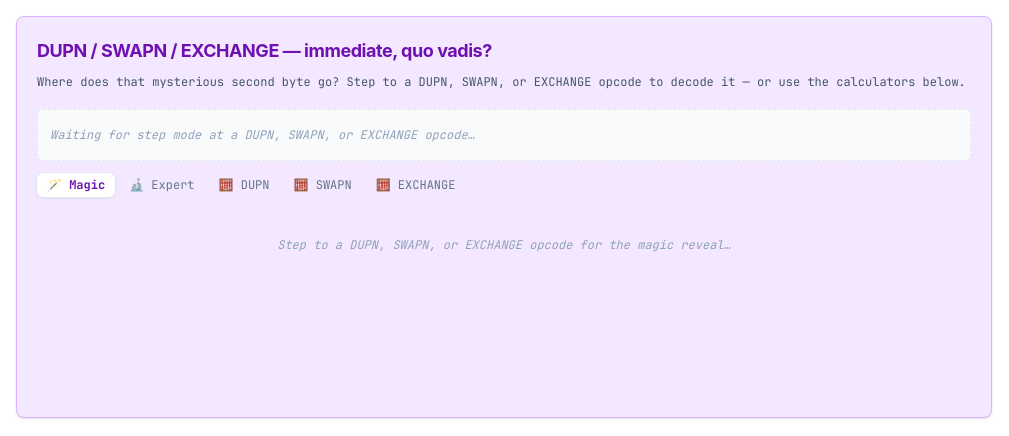
Test case: ImmediateQuoVadis › EXCHANGE calculator shows validation errors for invalid depths
The image size is (1009, 436).
Click the tab "🧮 EXCHANGE".
click(416, 184)  # box [366,172,466,196]
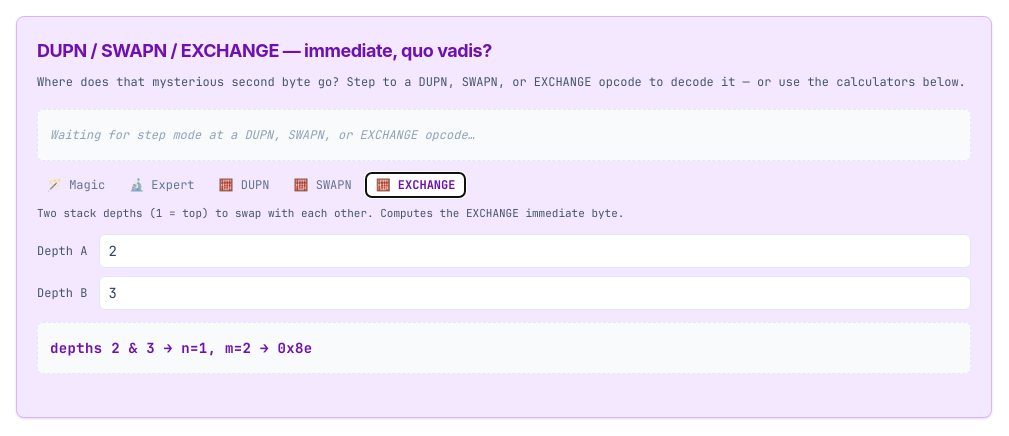
Replace the text in the number field with id "calc-exchange-depth-a" with "4" at (535, 251), box [99,234,971,268]
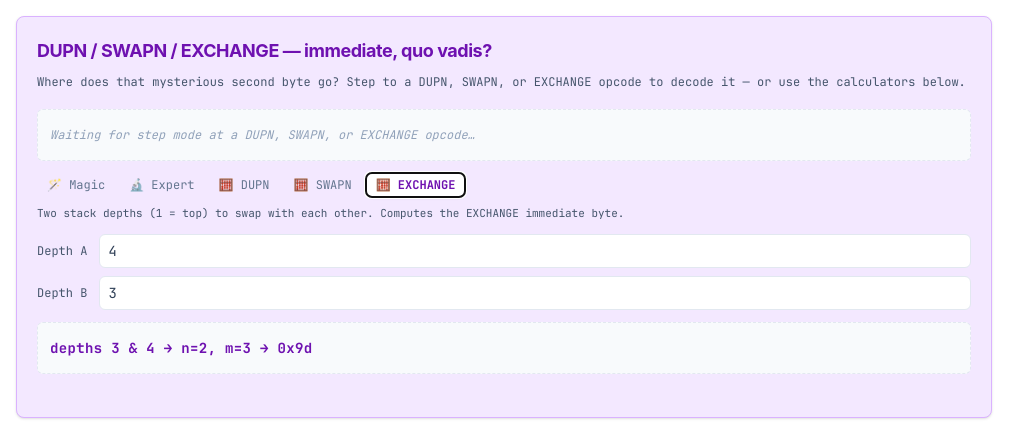
Replace the text in the number field with id "calc-exchange-depth-b" with "4" at (535, 293), box [99,276,971,310]
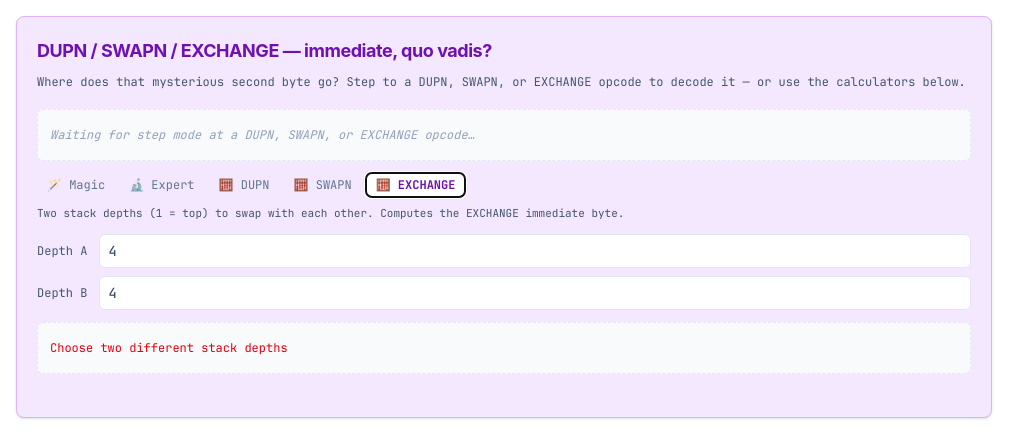
Result: the text "Choose two different stack depths" is shown at [50,340,288,356]
